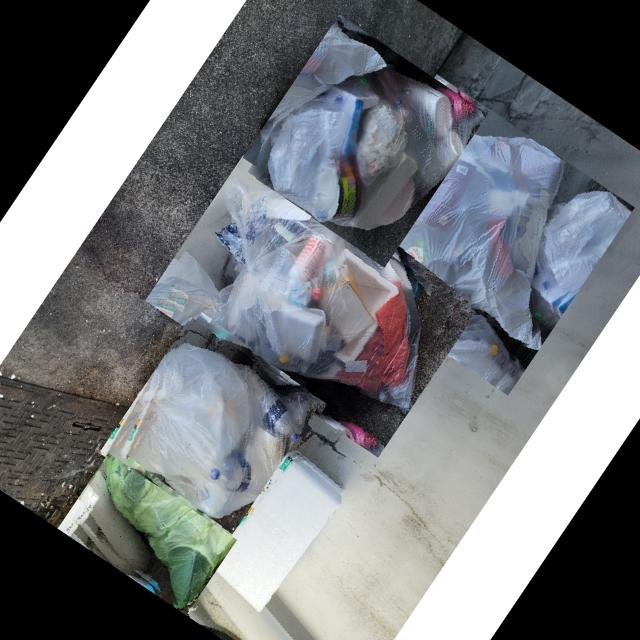other_trashbag: (213, 179, 420, 413), (351, 135, 564, 344), (266, 68, 484, 229), (121, 345, 315, 516), (103, 455, 236, 609)
